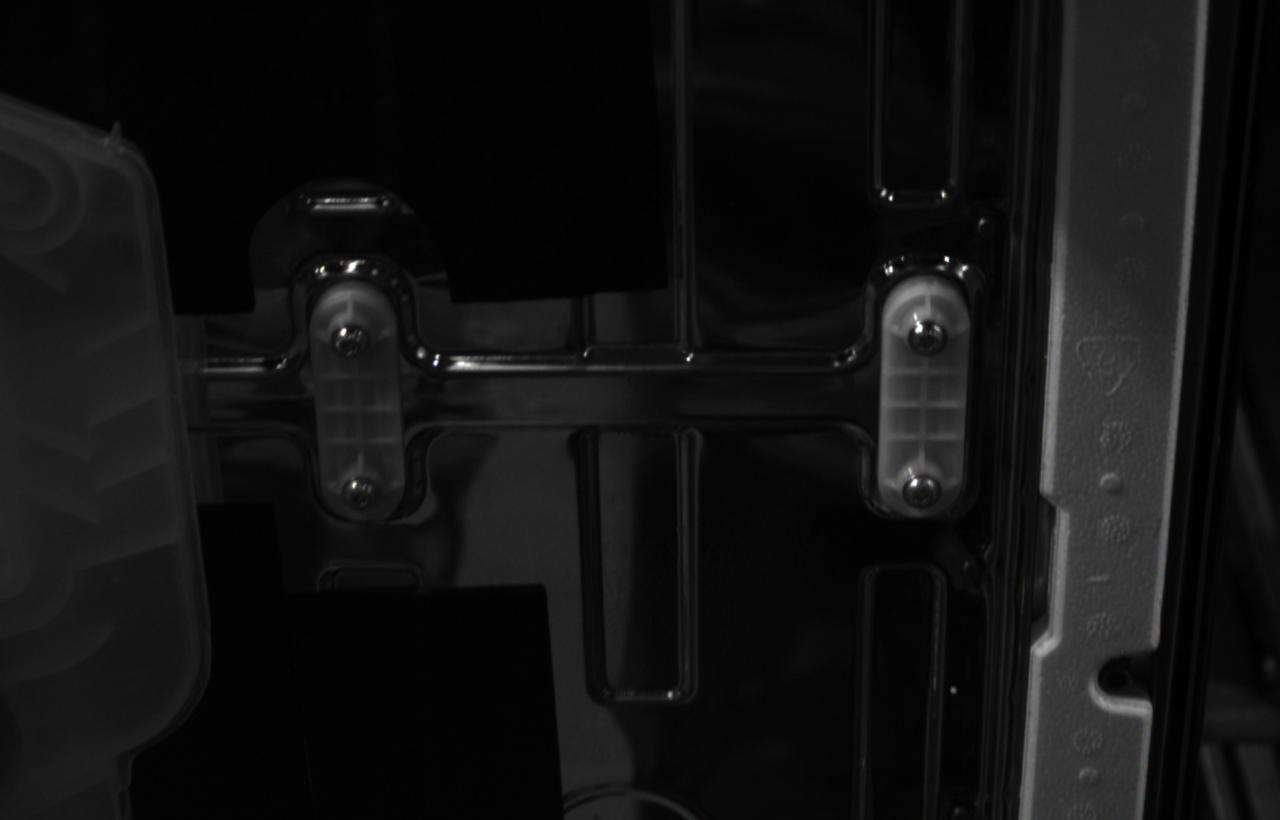vida-ok: (907, 318, 950, 358), (329, 323, 372, 362), (900, 474, 943, 509), (340, 476, 380, 512)
